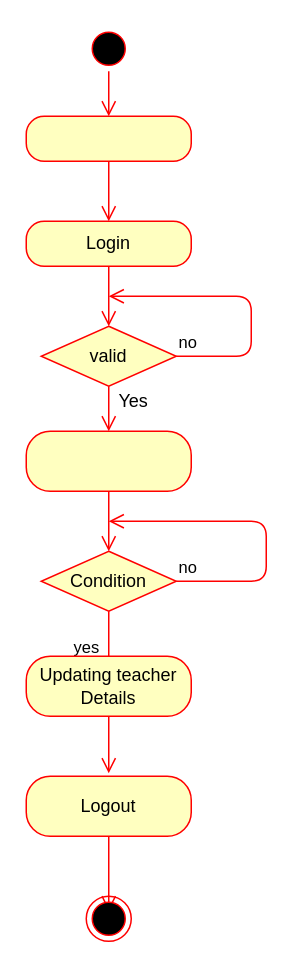
This 308x968 diagram has some shape labels left out. Here are the shapes that lost their labels. From the top down, the centre of each, then its label:
At [108,138]: "Start".
At [108,460]: "Marking Student Details".
